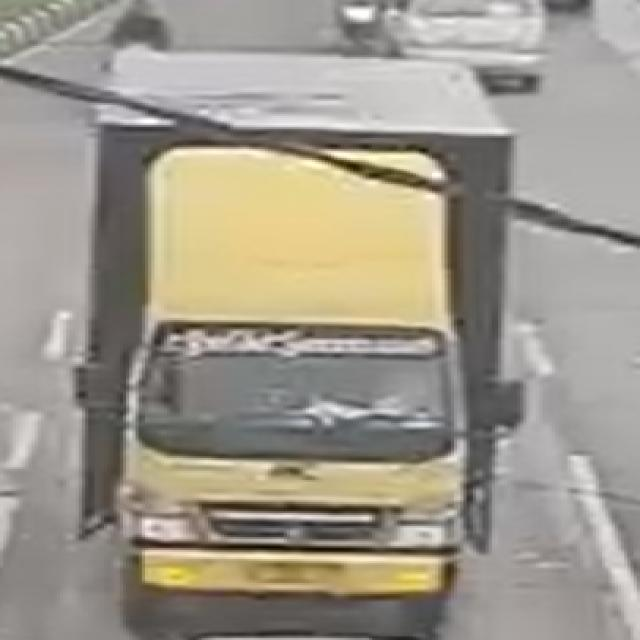Truck: (39, 28, 588, 624)
